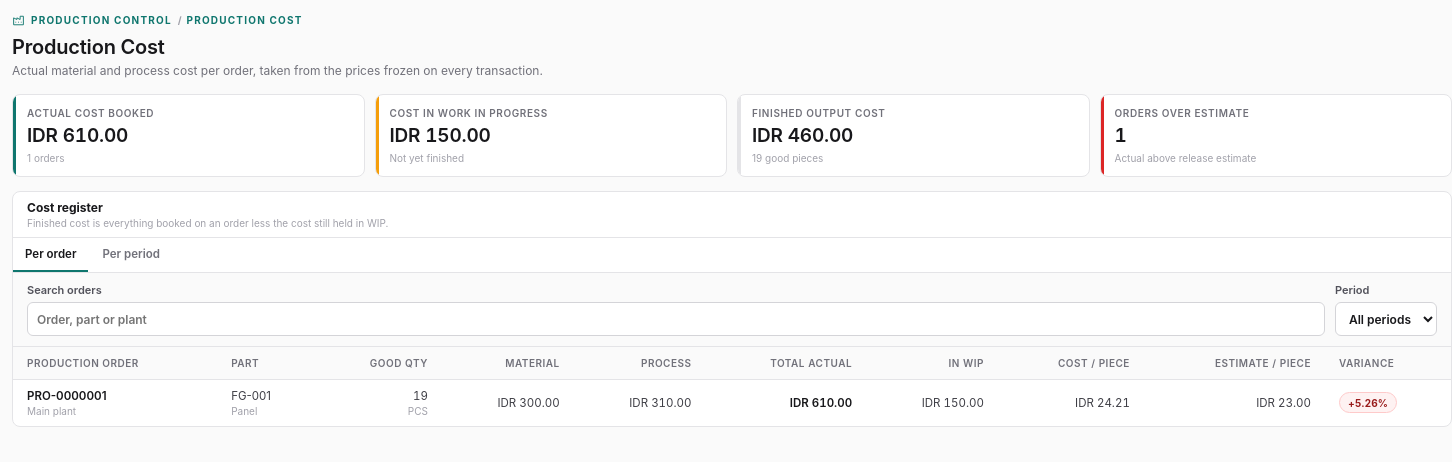
Test: filters orders by production period
The image size is (1452, 462).
Expected: the link "PRO-0000001" is shown, [27,388,106,402]
Select "2026-08" in the dropdown named "Period filter": point(1386, 319) [1335,302,1437,336]
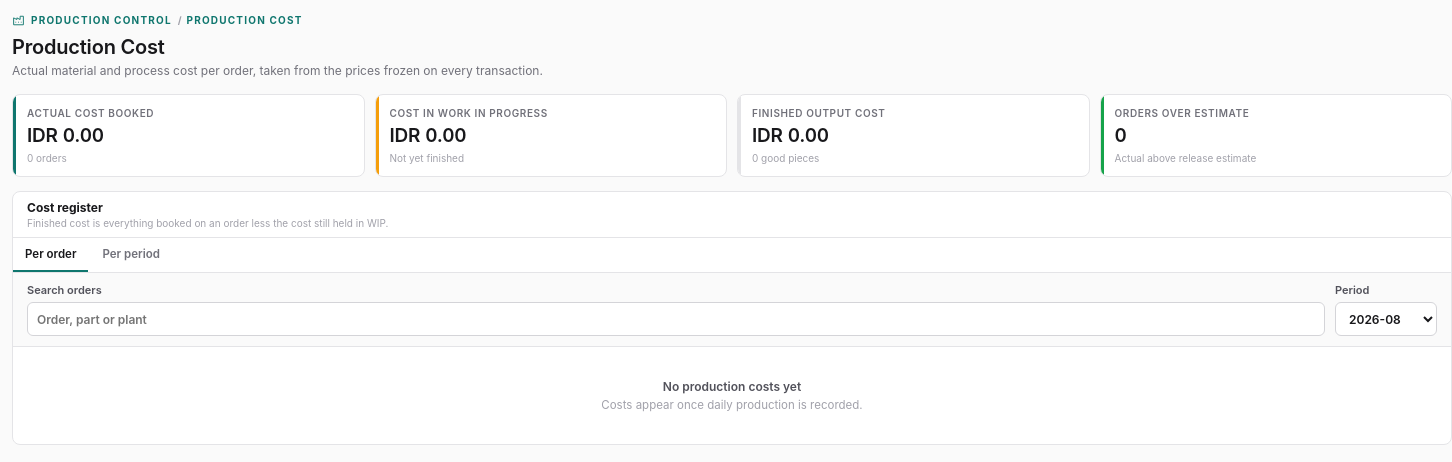
Expected: the link "PRO-0000001" is gone
